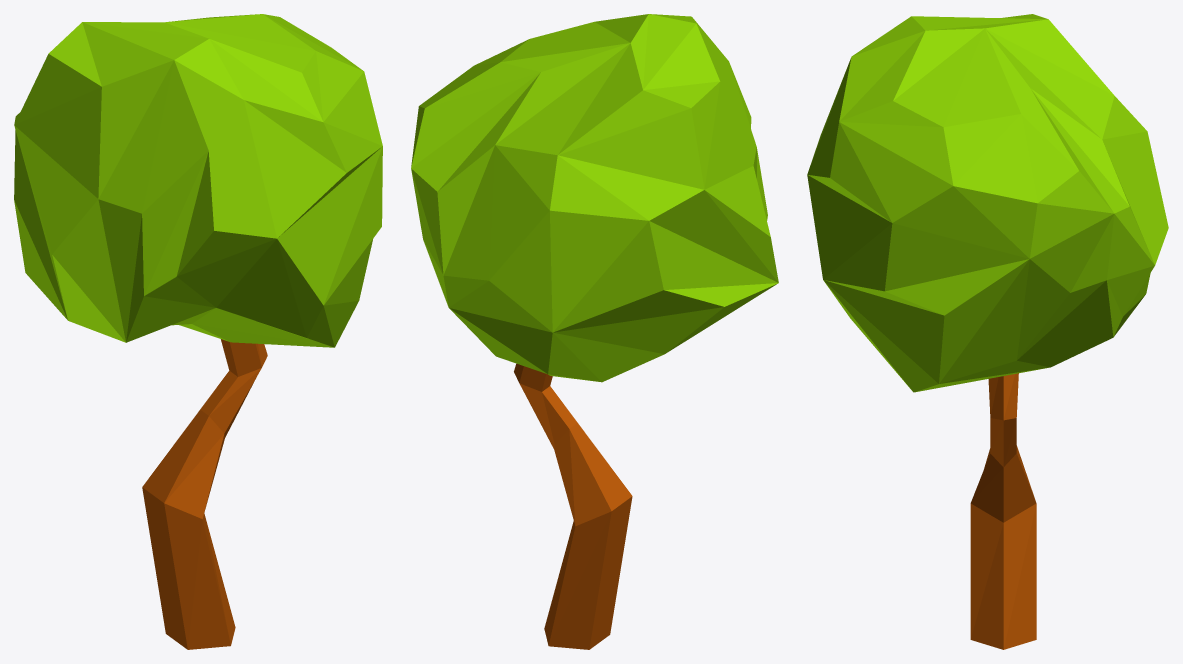
File: onemesh-tree2.glb
The picture shows the model from 3 angles, left to right: view 1: azimuth 30°, elevation 25°; view 2: azimuth 150°, elevation 25°; view 3: azimuth 270°, elevation 25°; orthographic projection. The views are drawn at different scales.
Size of the model in its own units: 0.542 by 1 by 0.5568.
